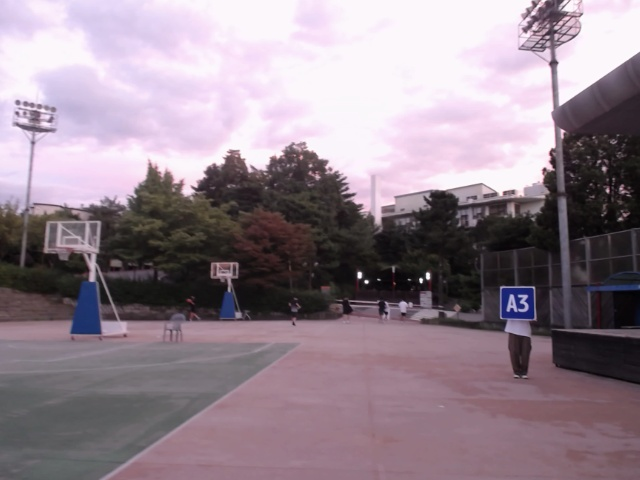delivery_a3: (500, 287, 537, 321)
